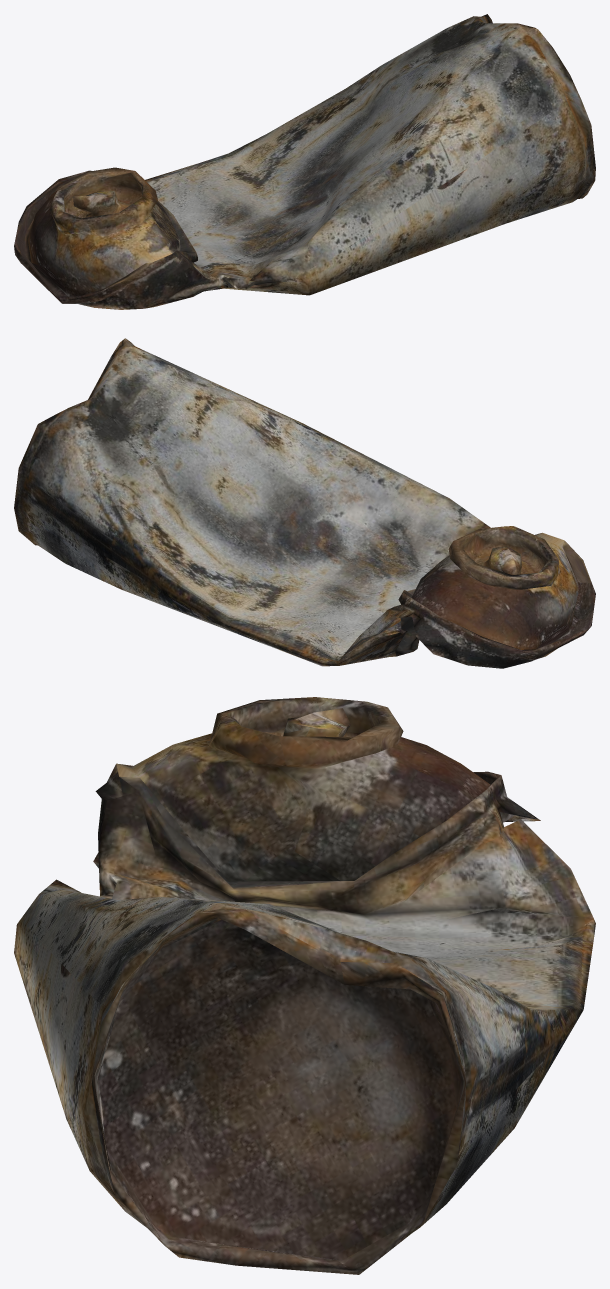
Rendered from CrushedTinCan01.fbx.
3 views of the same model, one above another, from view 1: azimuth 30°, elevation 25°; view 2: azimuth 150°, elevation 25°; view 3: azimuth 270°, elevation 25° (orthographic). The views are drawn at different scales.
Parts seen in each view (by area): view 1: CrushedTinCan01; view 2: CrushedTinCan01; view 3: CrushedTinCan01.
Part boxes in pixels (box(x1,y1,x2,y2)): CrushedTinCan01: box(14, 14, 595, 309); CrushedTinCan01: box(14, 338, 595, 668); CrushedTinCan01: box(14, 697, 595, 1274).
Size of the model in its own units: 0.4015 by 0.1367 by 0.2214.
